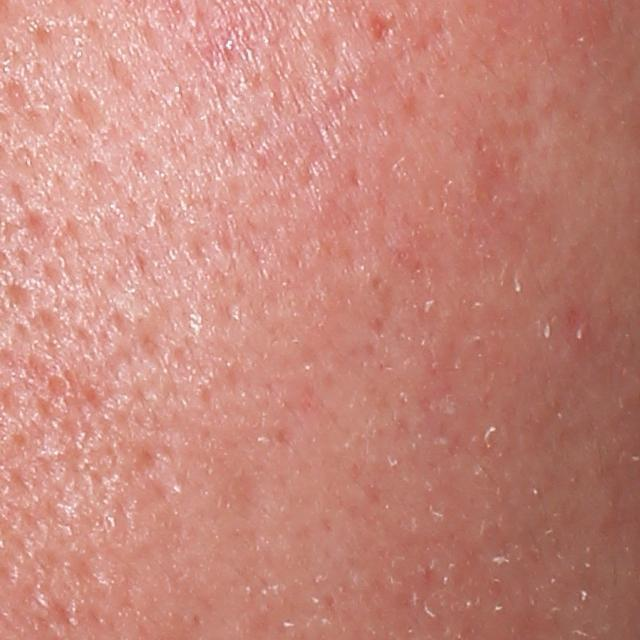atrophic_scar: (66, 86, 114, 134), (366, 11, 393, 42)
